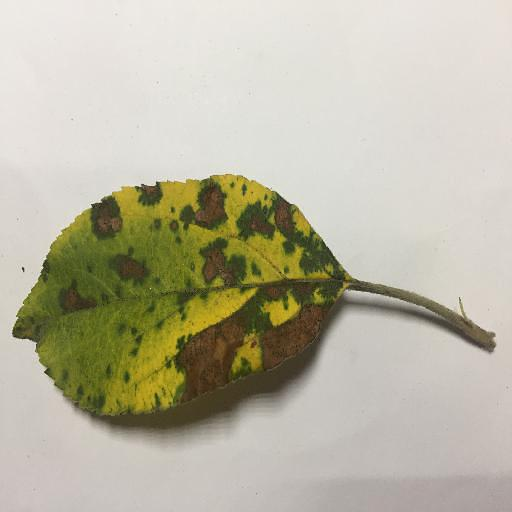Brown_Spot: (171, 299, 326, 404), (236, 202, 295, 237), (189, 183, 231, 225), (202, 247, 251, 281), (81, 201, 117, 235), (109, 255, 145, 281), (62, 288, 97, 307), (261, 284, 312, 296), (137, 186, 156, 204)
